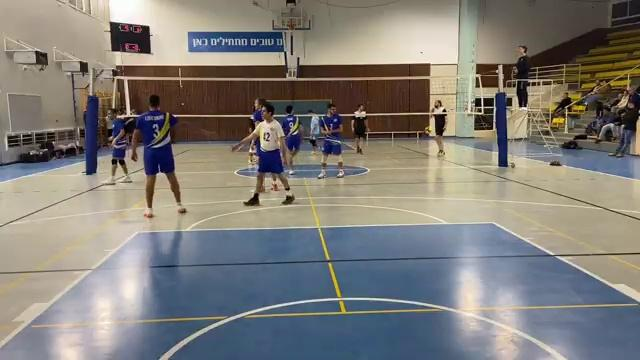ball: (422, 127, 434, 139)
